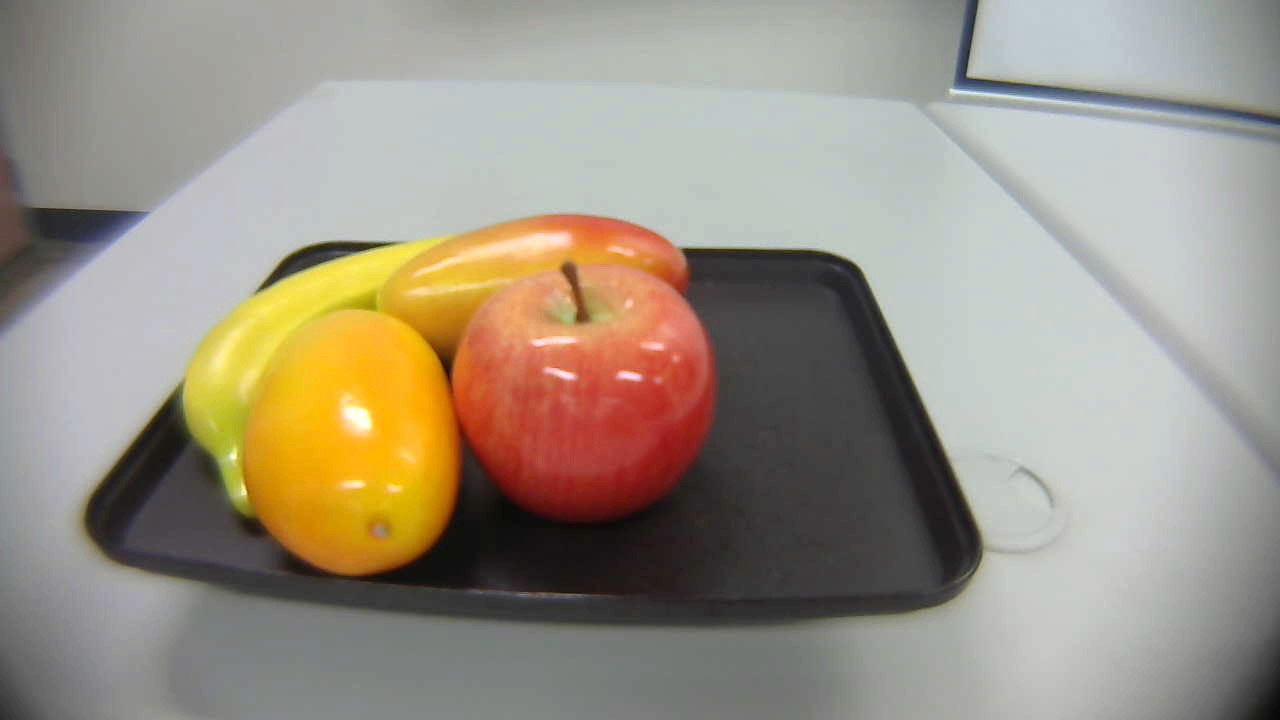banana: (150, 224, 448, 504)
red apple: (435, 259, 720, 528)
red mango: (362, 206, 695, 358)
yellow mango: (238, 296, 460, 574)
